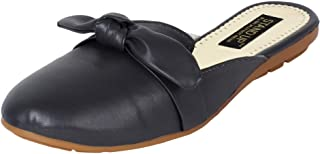shoes: (1, 1, 320, 151)
